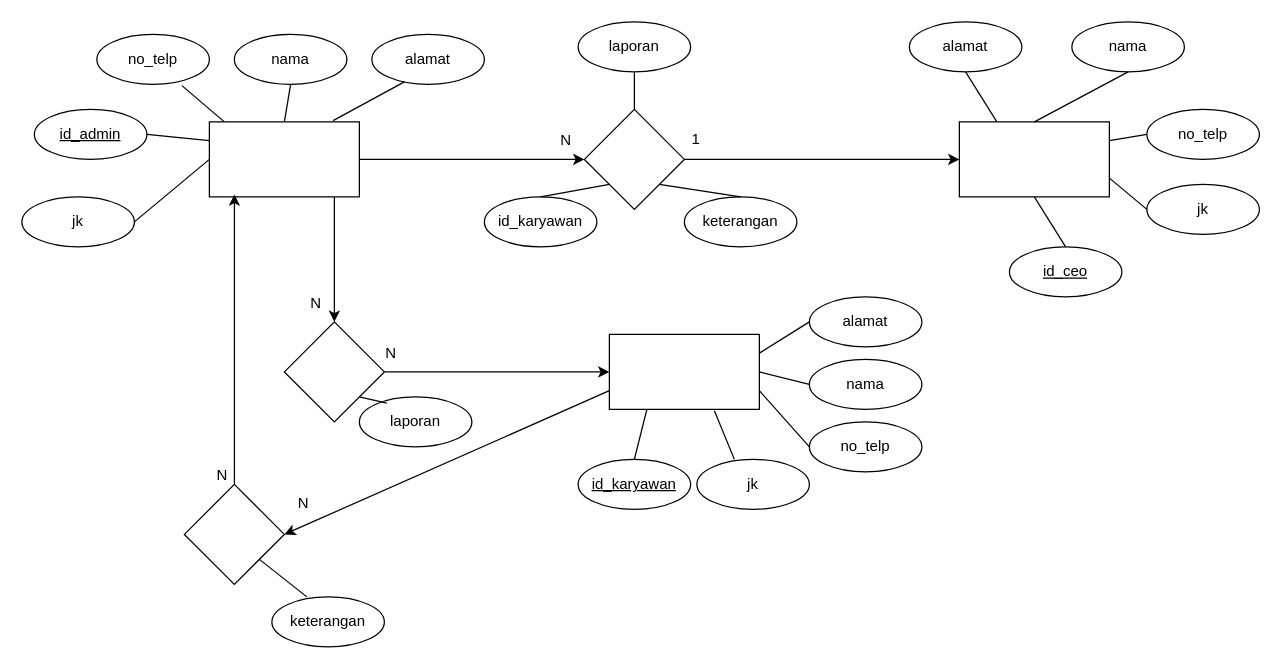
The diagram is 1281 pixels wide and 669 high, and some of its shapes have lost their labels. The centre of each missing label's shape, as x and y in pixels:
Admin: [283,159]
aturJadwal: [333,371]
CEO: [1033,159]
kabarMasuk: [233,533]
Karyawan: [683,371]
kirimData: [633,158]
